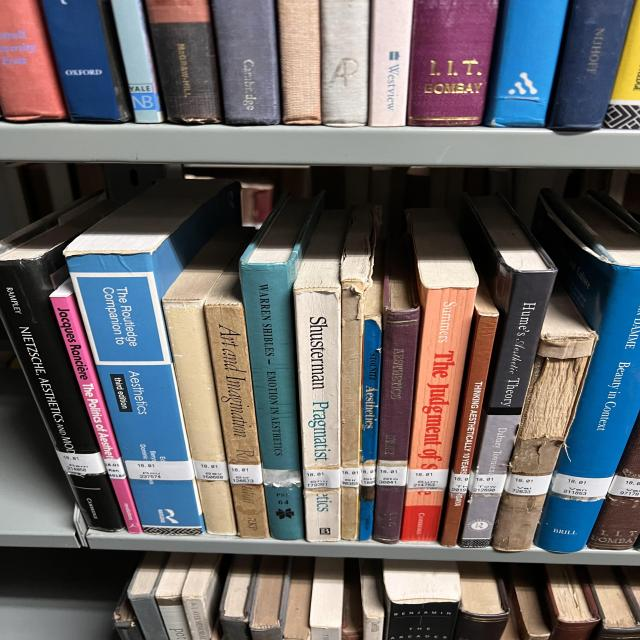Book: (65, 180, 243, 535), (0, 195, 125, 531), (532, 190, 640, 552), (460, 196, 557, 546), (238, 195, 323, 540), (163, 226, 253, 535), (492, 289, 597, 551), (402, 209, 478, 541), (50, 279, 143, 534), (203, 261, 270, 539), (293, 210, 348, 541), (440, 284, 498, 546), (373, 239, 420, 544), (340, 205, 373, 540), (587, 415, 640, 550), (358, 275, 382, 541)
Label: (125, 460, 195, 481), (552, 474, 613, 498), (57, 451, 107, 476), (505, 474, 552, 496), (468, 472, 507, 494), (407, 469, 448, 489), (262, 469, 302, 488), (303, 469, 340, 489), (608, 475, 640, 498), (193, 460, 228, 481), (228, 464, 263, 485), (377, 465, 407, 486), (103, 459, 127, 479), (450, 472, 470, 494), (342, 468, 362, 488), (360, 465, 377, 486)
